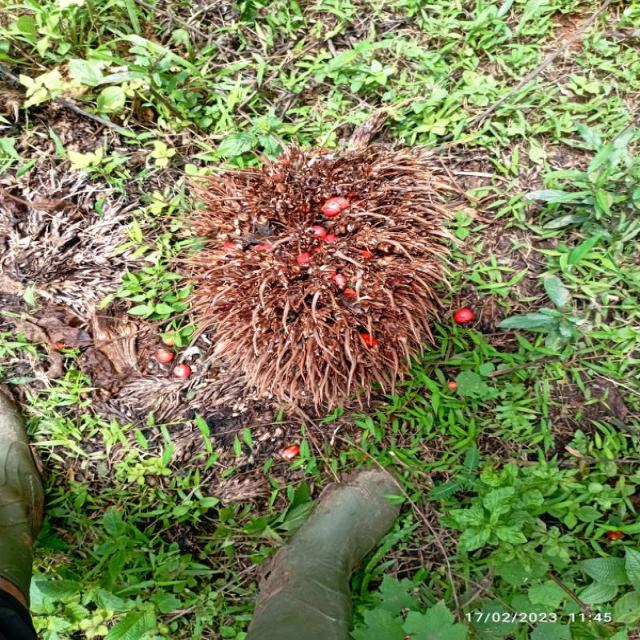fraksi 4: (158, 142, 484, 406)
